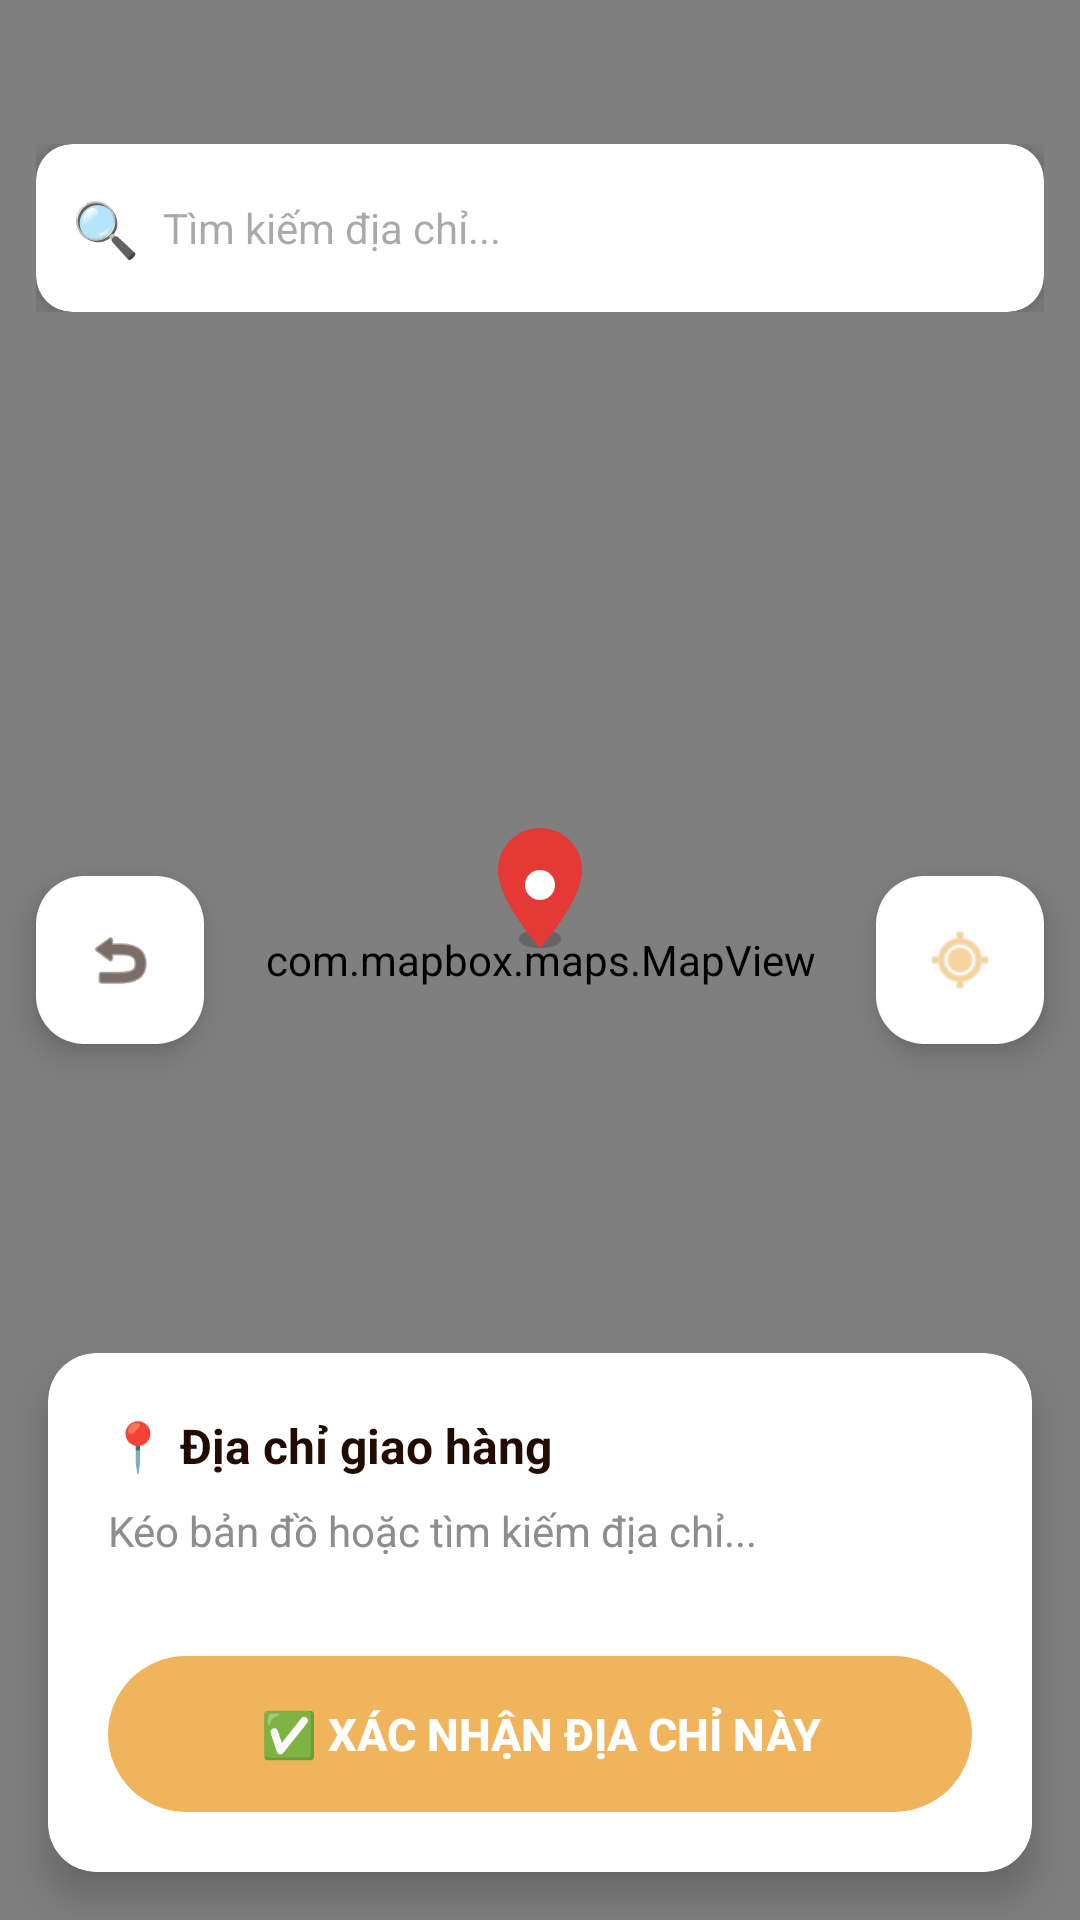

Named icons in this screenshot (1080x1920) and their centers, [x,y]:
Marker pin: [540,888]
Quay lại: [120,960]
Vị trí hiện tại: [960,960]
